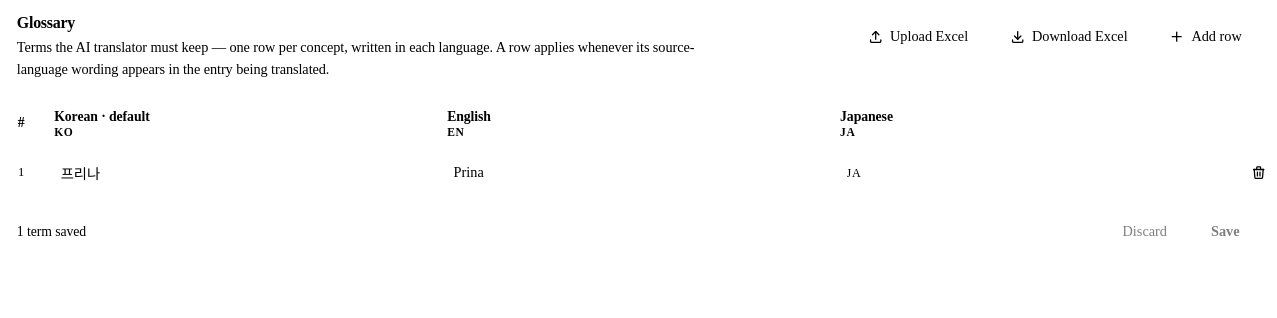
Test: GlossaryTab › adds a row, takes typed terms and saves the whole grid
Expected: the field showing "프리나" is shown, top-left (50, 154), bottom-right (434, 191)
Click the button "Add row": (1206, 37) top-left (1154, 16), bottom-right (1257, 58)
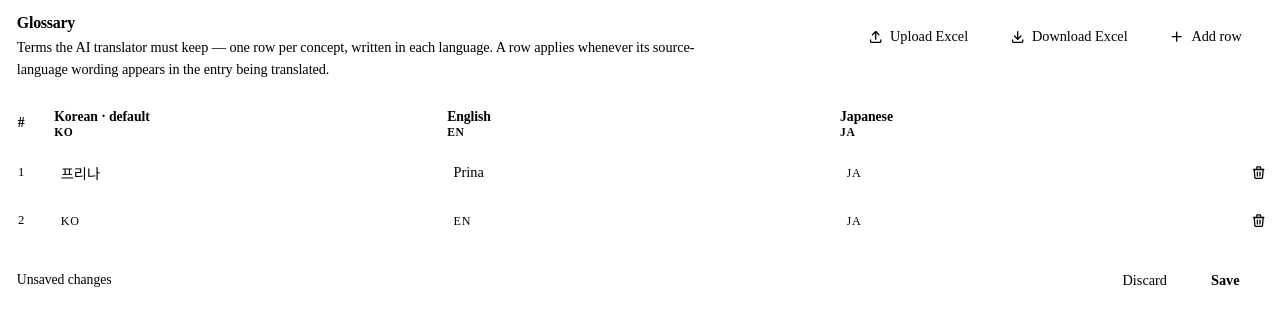
In the field named "Korean term, row 2": (242, 221) top-left (50, 202), bottom-right (434, 240), type "허브"
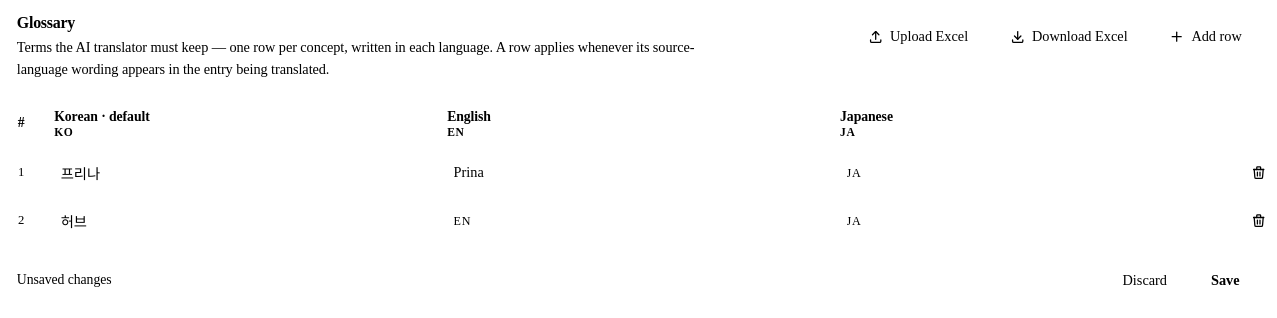
In the field named "English term, row 2": (635, 221) top-left (443, 202), bottom-right (827, 240), type "Hub"
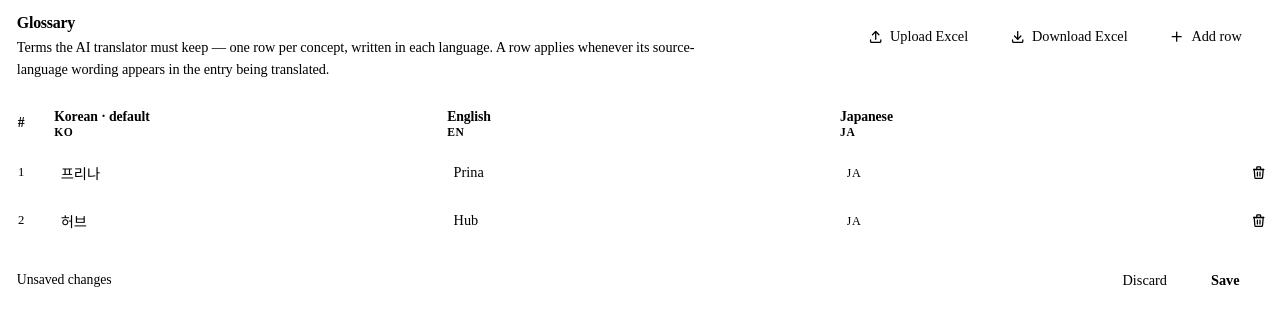
Result: the text "Unsaved changes" is shown at top-left (17, 272), bottom-right (112, 287)
Click the button "Save": (1225, 280) top-left (1193, 259), bottom-right (1257, 301)
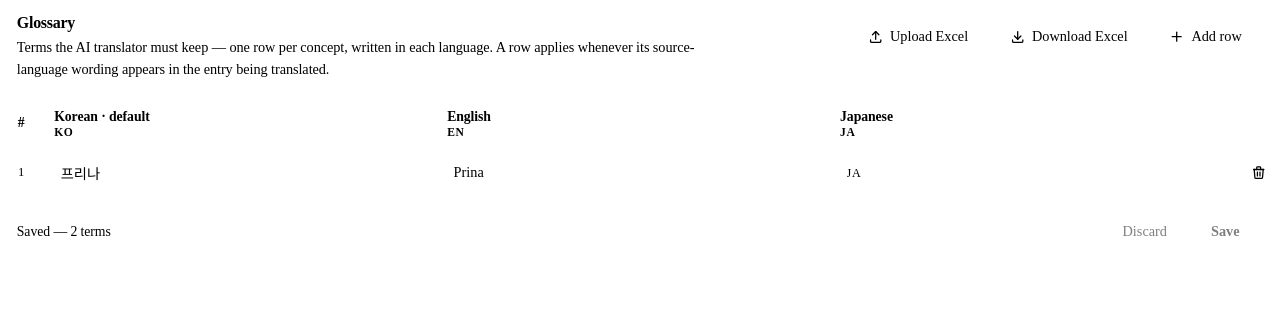
Result: the text "Saved — 2 terms" is shown at top-left (17, 224), bottom-right (111, 239)
